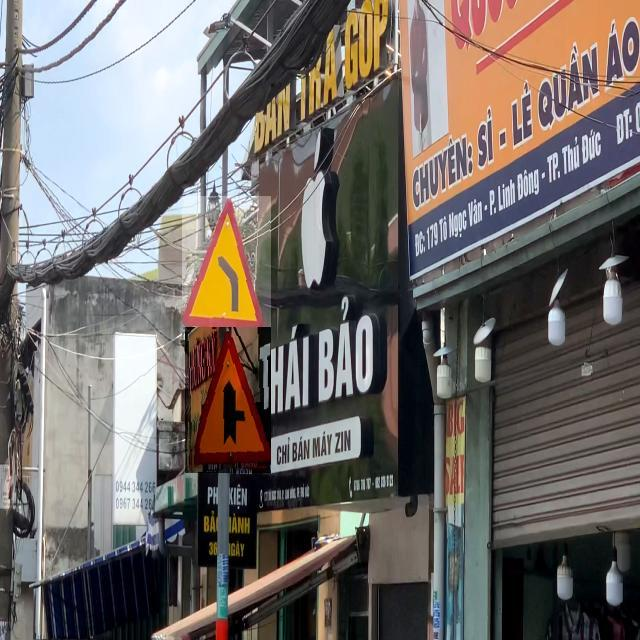W-201a: (182, 196, 271, 340)
W-207b: (185, 327, 271, 473)
